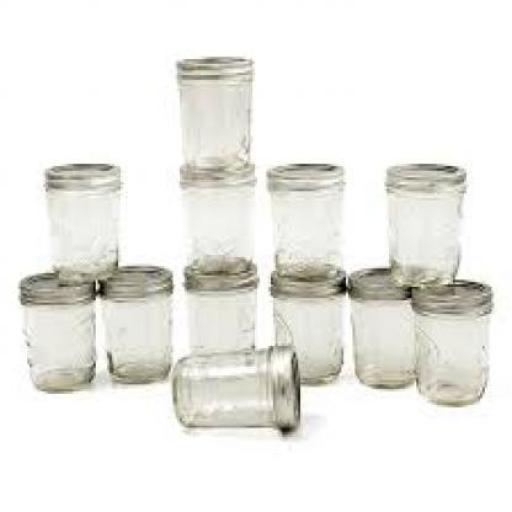glass: (382, 182, 462, 282), (172, 348, 274, 426), (268, 184, 344, 278), (412, 310, 486, 405), (43, 184, 116, 278), (175, 75, 248, 166), (271, 291, 343, 382), (20, 300, 93, 389), (180, 180, 252, 270), (100, 291, 168, 380), (346, 296, 412, 385), (184, 287, 255, 353)
metal: (268, 343, 298, 432), (409, 278, 489, 310), (18, 266, 94, 298), (346, 266, 426, 296), (385, 157, 462, 186), (266, 264, 342, 291), (42, 158, 116, 184), (95, 262, 168, 288), (181, 258, 253, 284), (262, 157, 341, 180), (173, 50, 250, 68), (178, 157, 250, 175)
